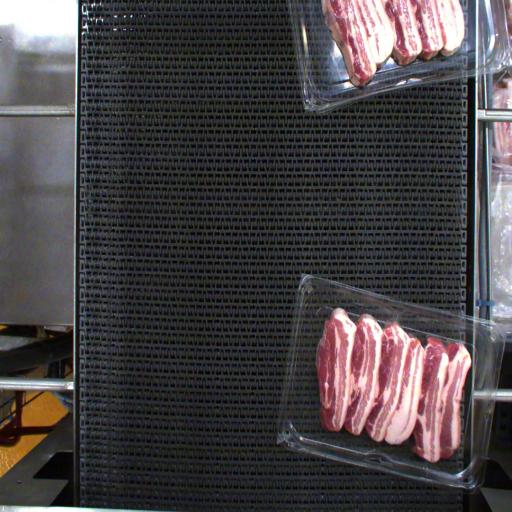packaging-error: (384, 312, 406, 330)
unsealed: (422, 328, 478, 360)
